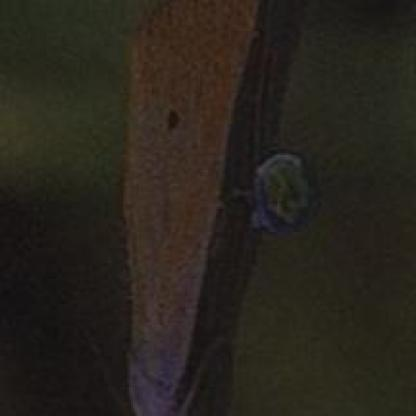stem-borer: (114, 0, 275, 414)
